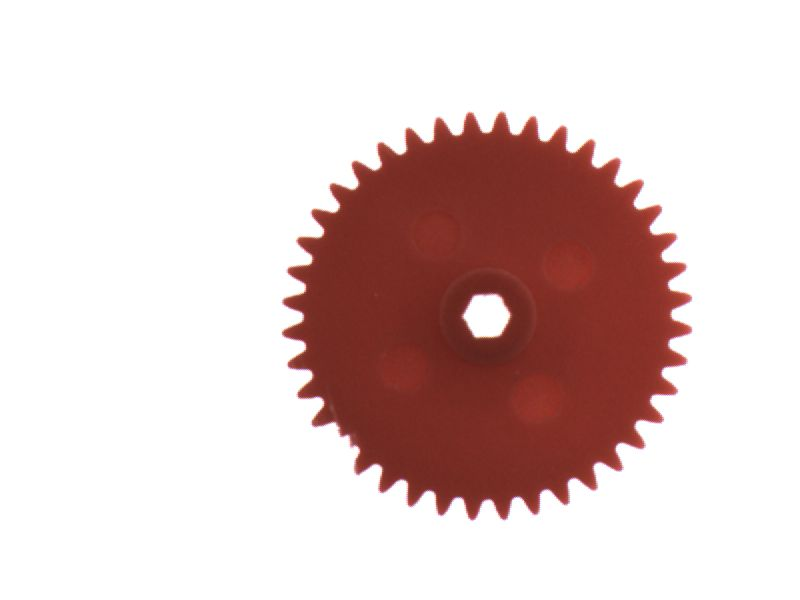defect_lack: (302, 418, 370, 471)
